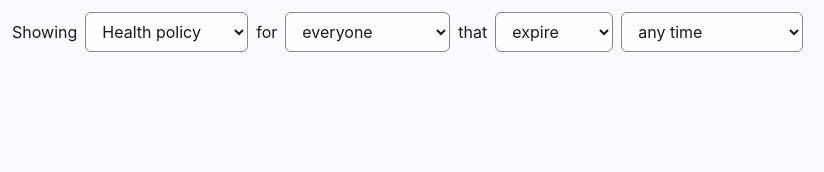
Test: the adjustable sentence › the custom range › with From after To is not sent, and says so beside the dates
This screenshot has width=824, height=172.
Select "a custom range" in the dropdown named "When" at (712, 32), box [621,12,803,52]
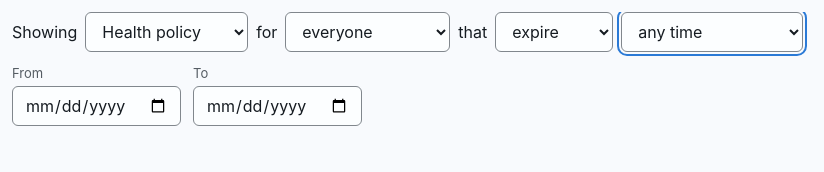
Type "2027-02-01" into the date field labelled "From".
click(96, 106); type("2027-02-01")  # box [12,86,181,126]
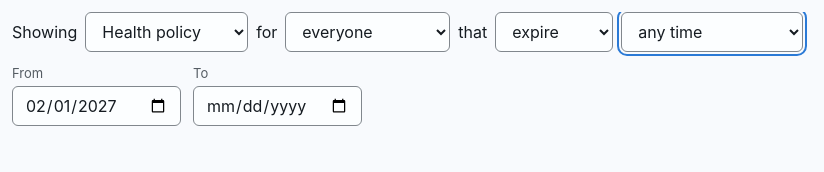
Type "2027-01-01" into the date field labelled "To".
click(278, 106); type("2027-01-01")  # box [193,86,362,126]
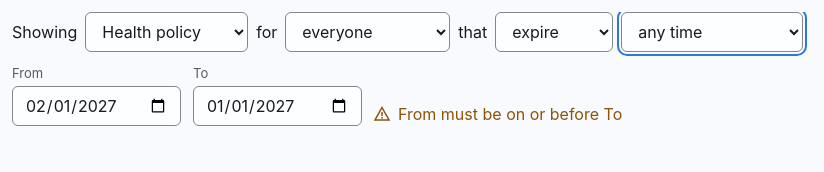
Now the icon is shown, box [374,106,390,122]
